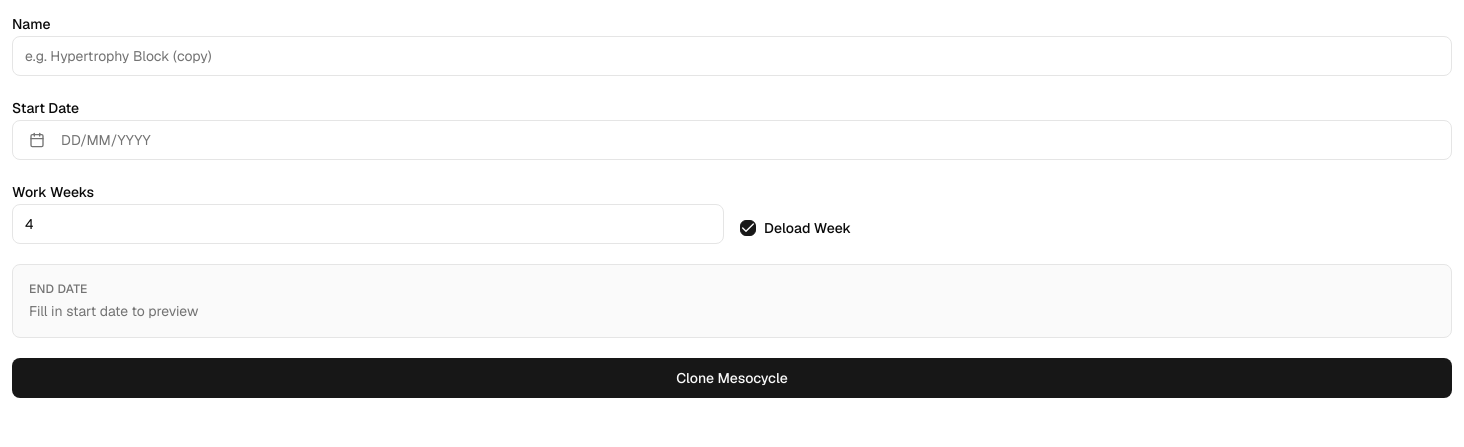
Test: CloneMesocycleForm › shows validation error when start_date is empty on submit
Type "New Block" into the field labelled "Name". click: (732, 56)
box: [12, 36, 1452, 76]
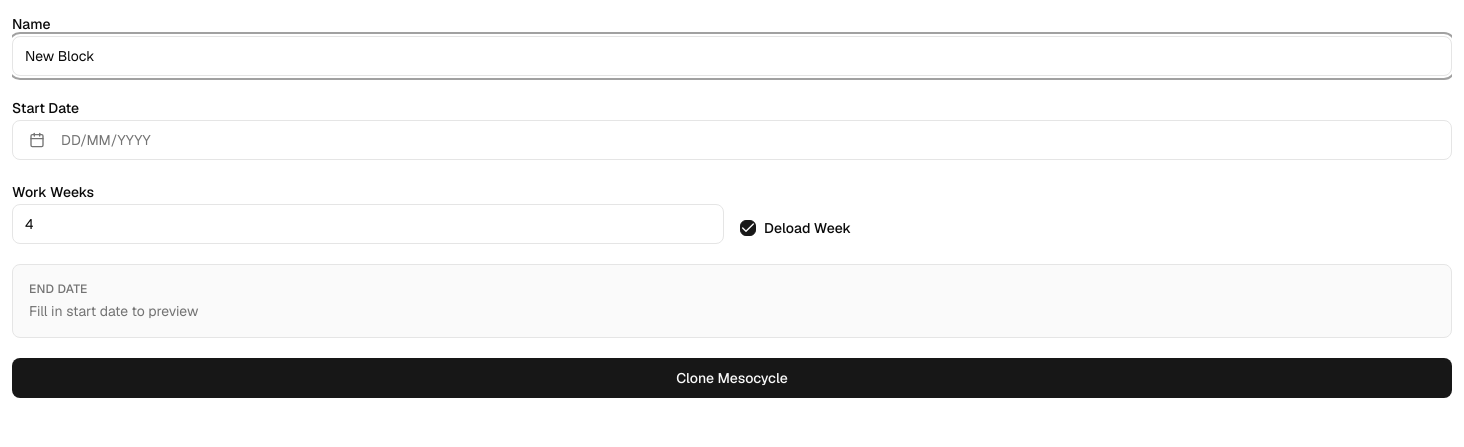
Click the button "Clone Mesocycle". click: (732, 378)
box: [12, 358, 1452, 398]
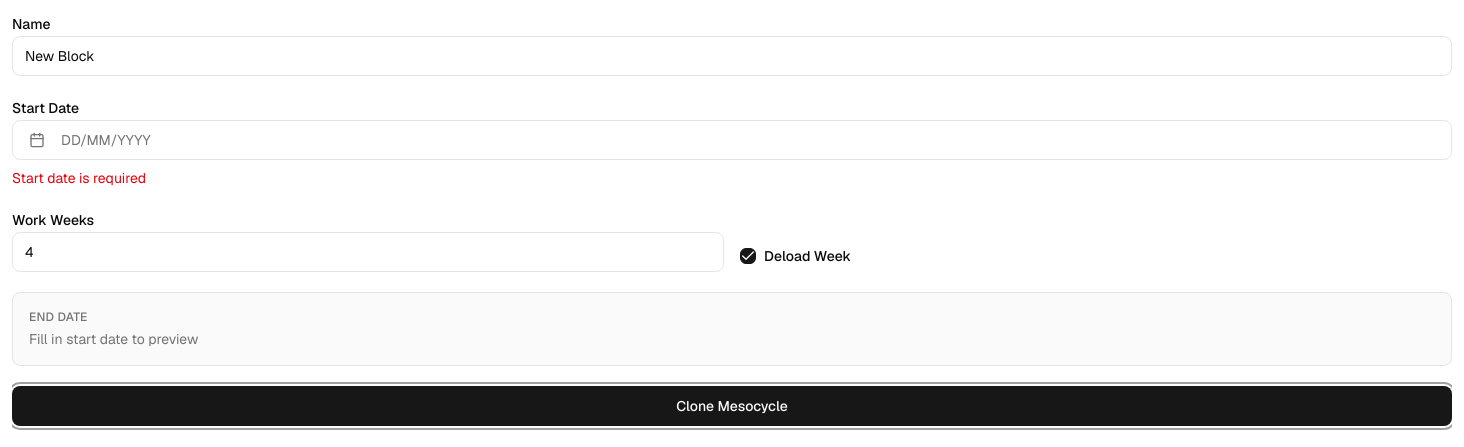
Check: the text "Start date is required" is shown, box [12, 169, 146, 187]
